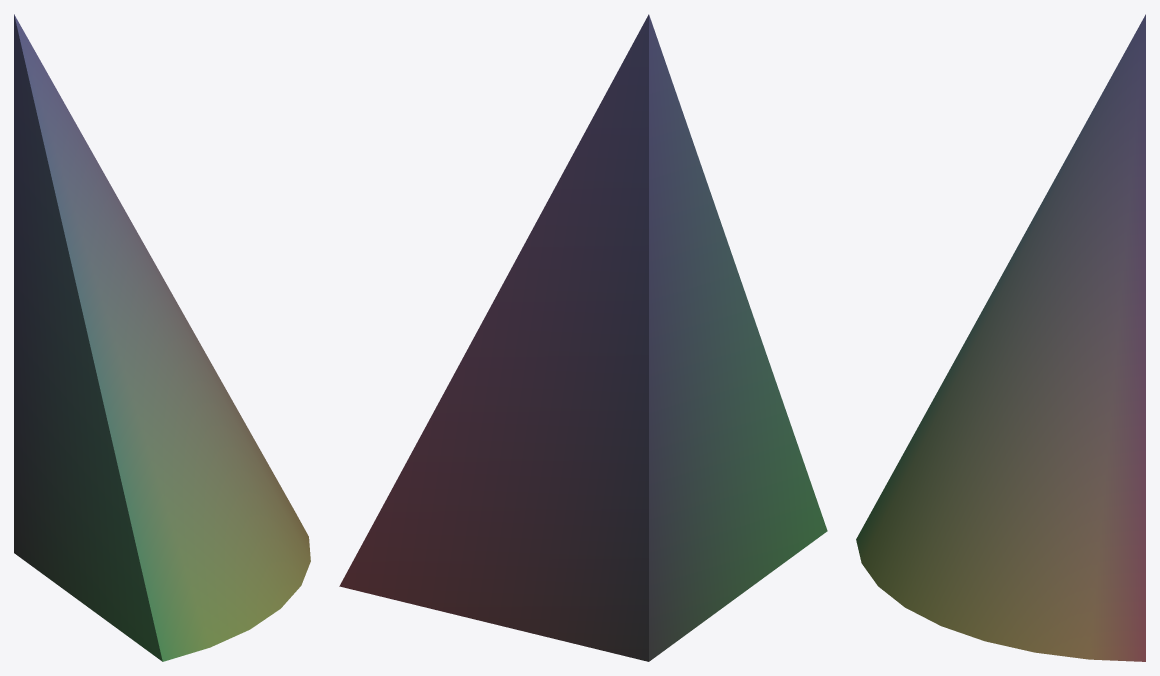
The model's file is SM_ScalableQuarterCone.gltf.
3 renders of one model, left to right at view 1: azimuth 30°, elevation 25°; view 2: azimuth 150°, elevation 25°; view 3: azimuth 270°, elevation 25°, orthographic. The views are drawn at different scales.
Visible parts, largest first — view 1: SM_ScalableQuarterCone; view 2: SM_ScalableQuarterCone; view 3: SM_ScalableQuarterCone.
Part boxes in pixels (<box>): SM_ScalableQuarterCone: <box>14,14,310,661</box>; SM_ScalableQuarterCone: <box>339,14,827,661</box>; SM_ScalableQuarterCone: <box>856,14,1145,661</box>.
Bounding box in the file's own units: 0.15 × 0.3 × 0.15.
